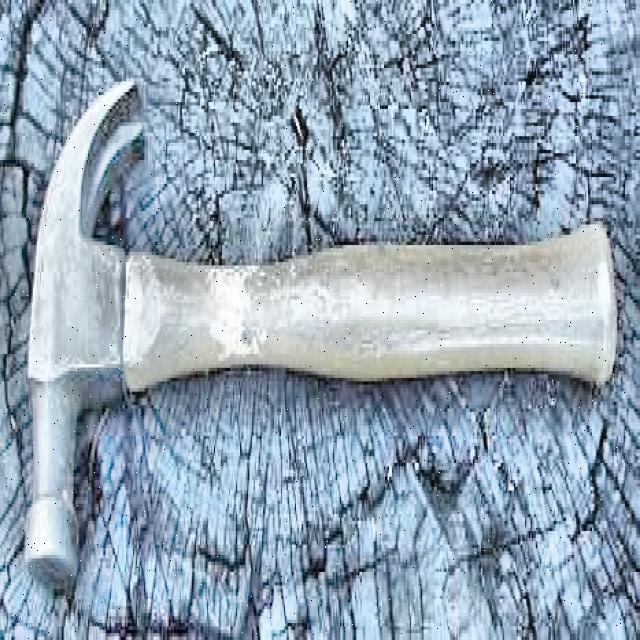hammer: (27, 76, 614, 596)
